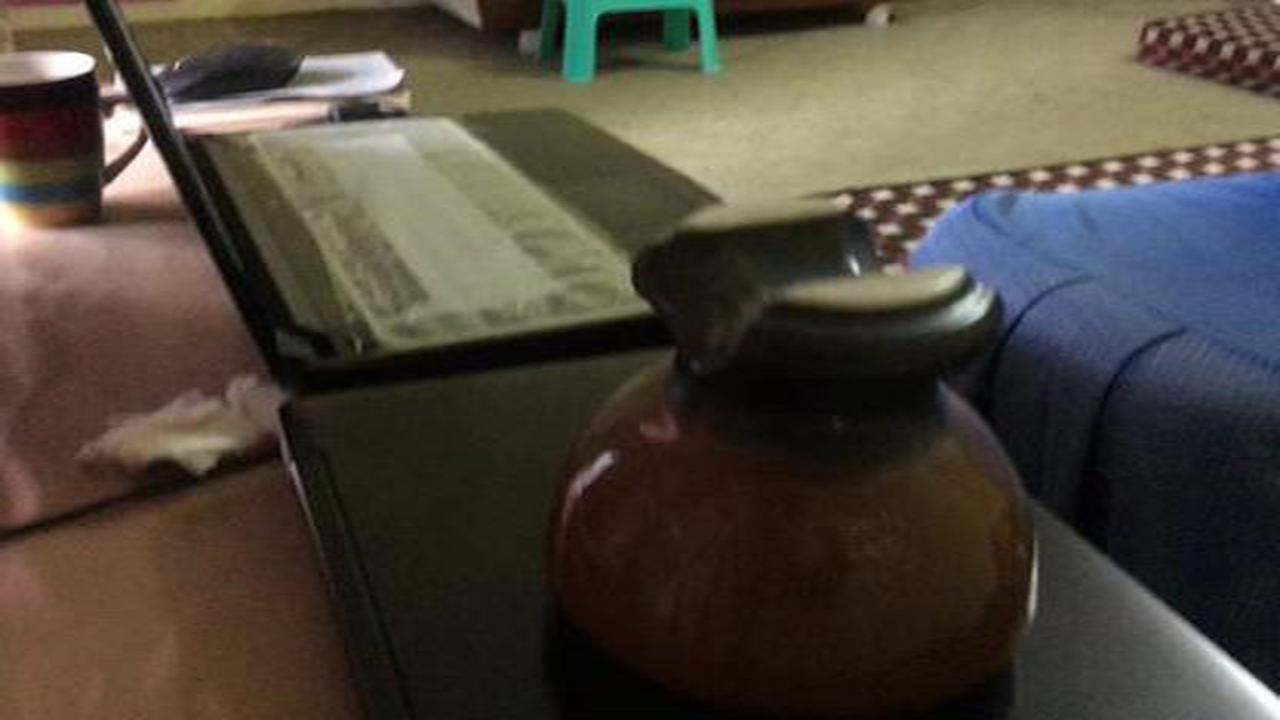insulator_pin: (542, 184, 1056, 715)
